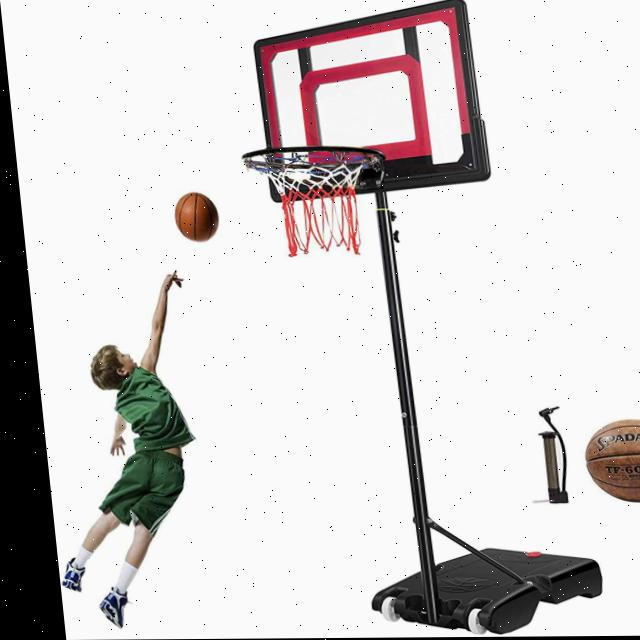basketball: (583, 419, 640, 502), (173, 192, 222, 243)
hoop: (241, 146, 396, 258)
